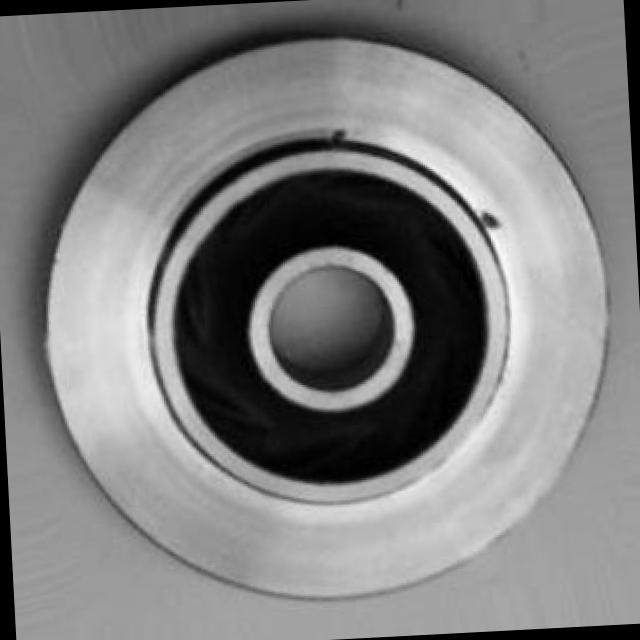Defect: (328, 124, 348, 150)
